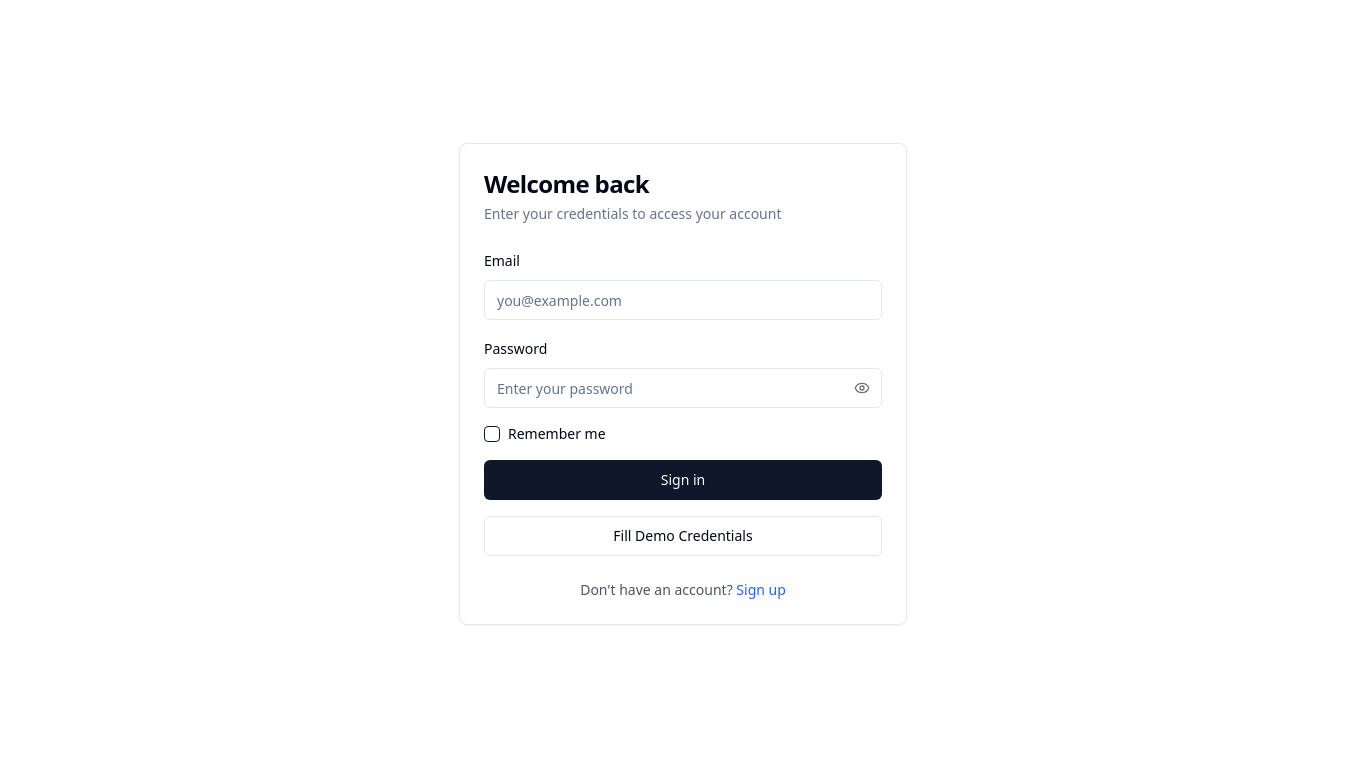
LoginPage › form validation › should show error for short password
Type "test@example.com" into the field labelled "Email". click: (683,300)
box: top-left (484, 280), bottom-right (882, 320)
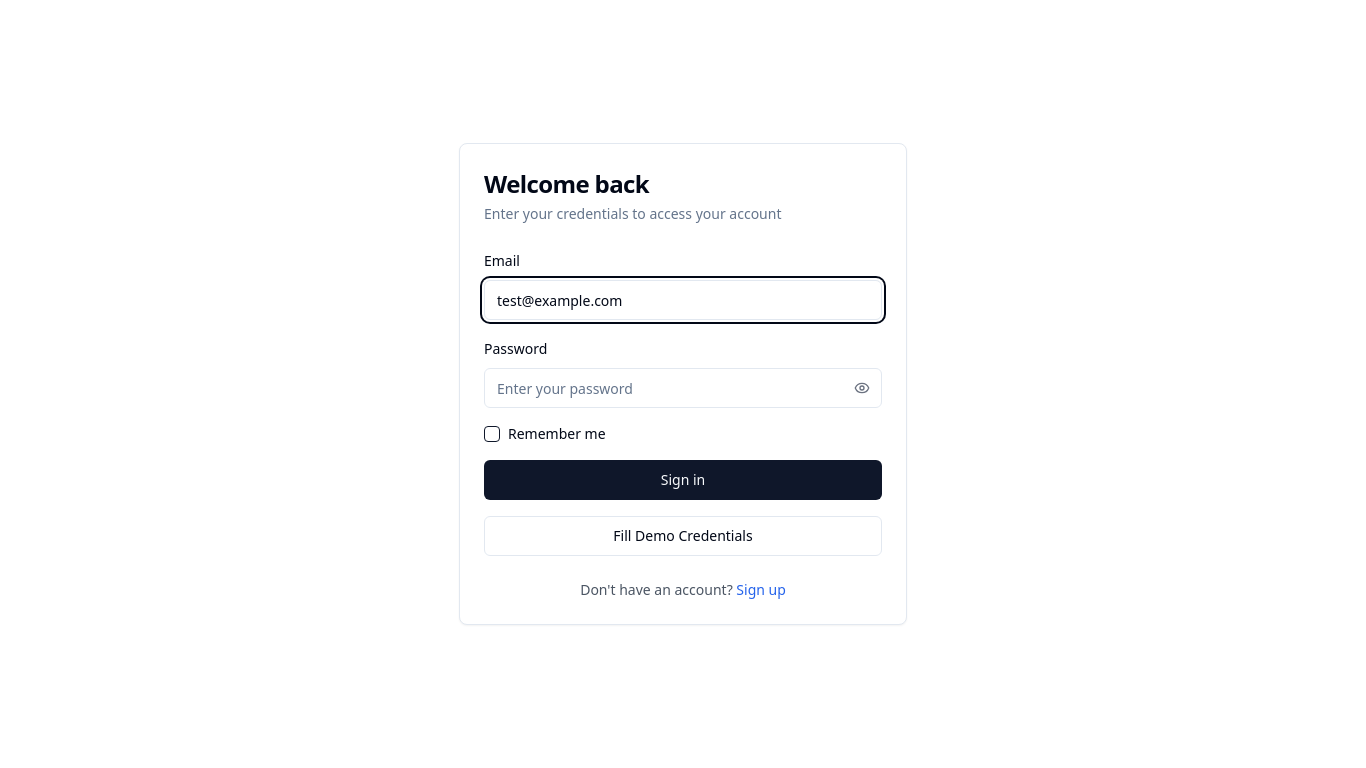
Type "123" into the password field labelled "Password". click: (683,388)
box: top-left (484, 368), bottom-right (882, 408)
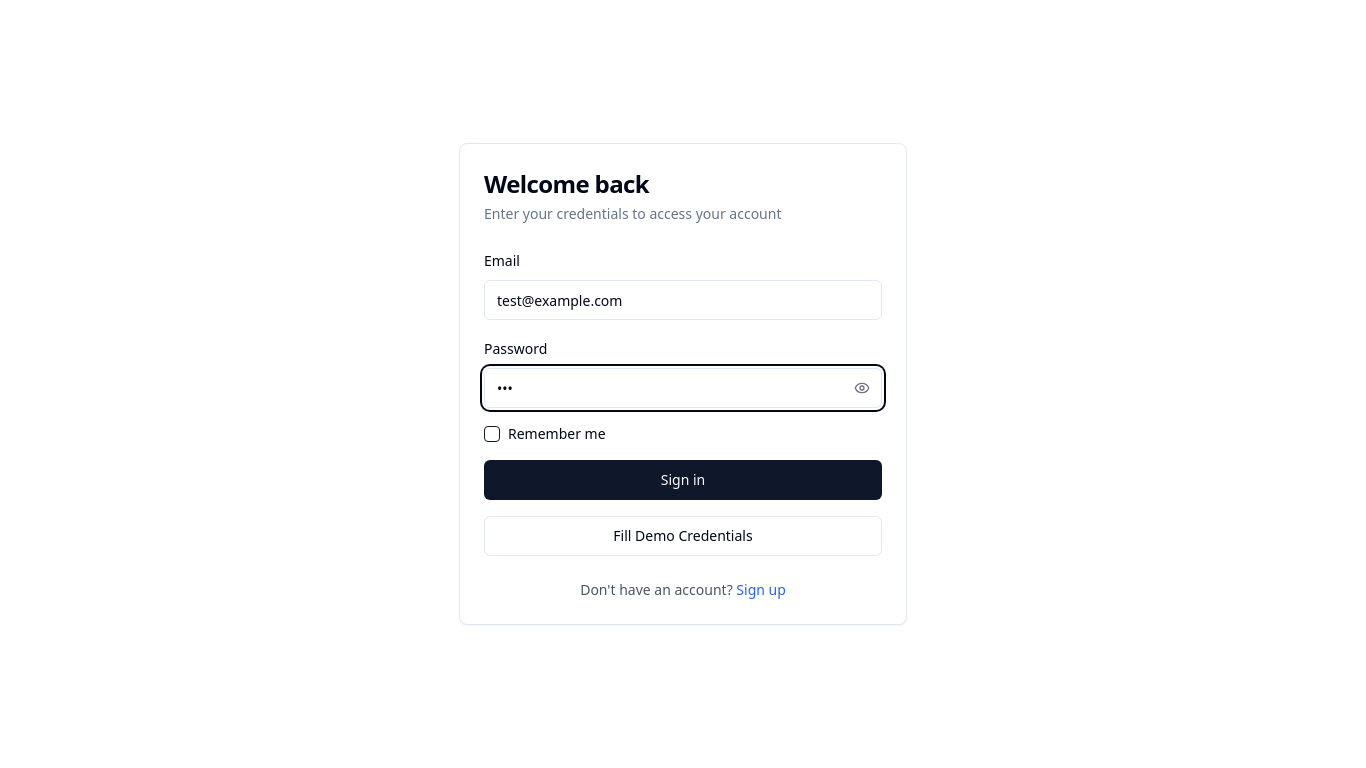
Click the button "Sign in". click: (683,480)
box: top-left (484, 460), bottom-right (882, 500)
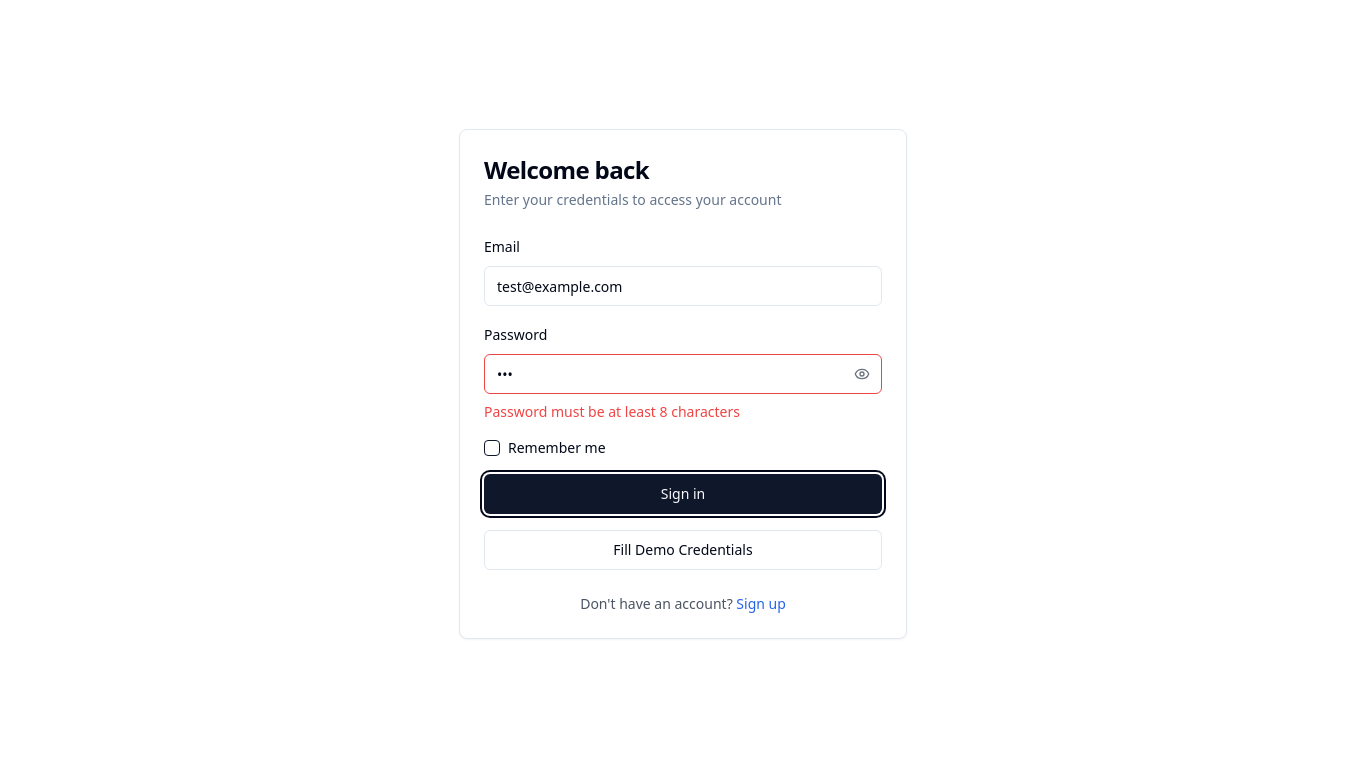
Expected: the text "Password must be at least 8 characters" is shown, top-left (484, 402), bottom-right (740, 421)
